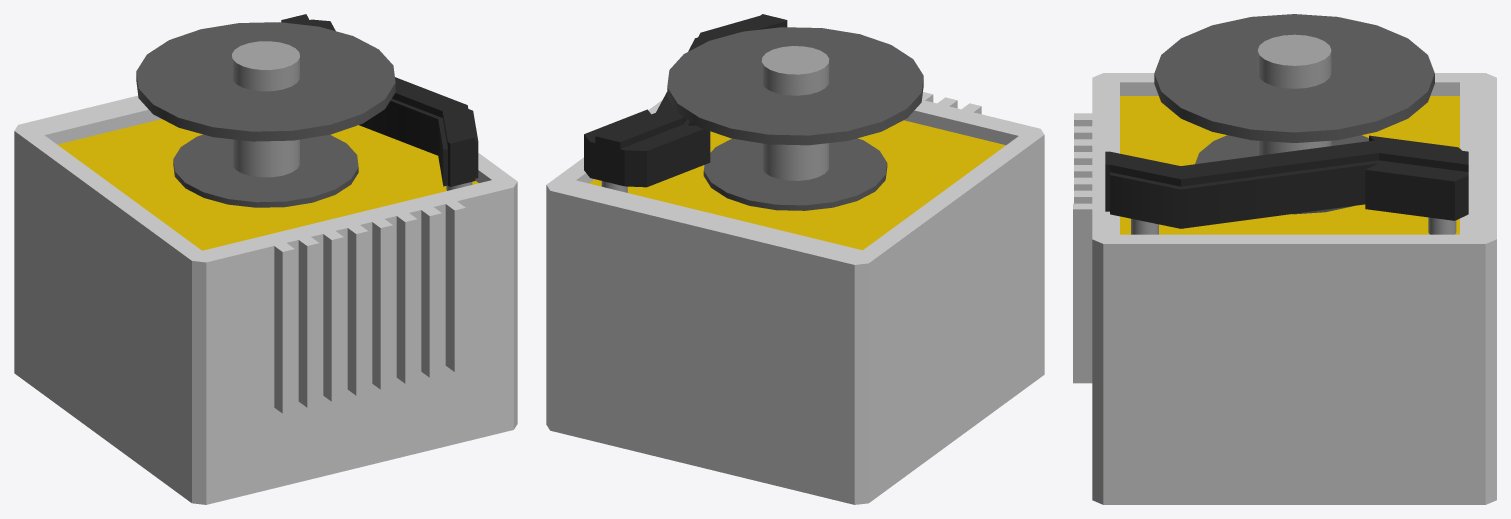
File: recordplayer.fbx
3 views of the same model, side by side, from view 1: azimuth 30°, elevation 25°; view 2: azimuth 150°, elevation 25°; view 3: azimuth 270°, elevation 25° (orthographic). The views are drawn at different scales.
Visible parts, largest first — view 1: pCylinder7; view 2: pCylinder7; view 3: pCylinder7.
Boxes of the visible parts, x1,y1,x2,y2 form: pCylinder7: [14, 14, 517, 504]; pCylinder7: [546, 14, 1044, 504]; pCylinder7: [1073, 14, 1496, 504].
Bounding box in the file's own units: 30 × 30.19 × 31.42.
